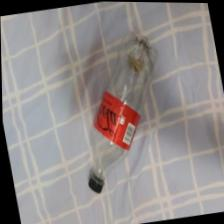glass: (55, 3, 176, 198)
